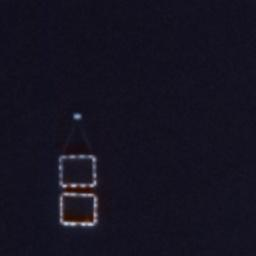square_solid: (55, 187, 103, 230), (55, 151, 100, 192)
